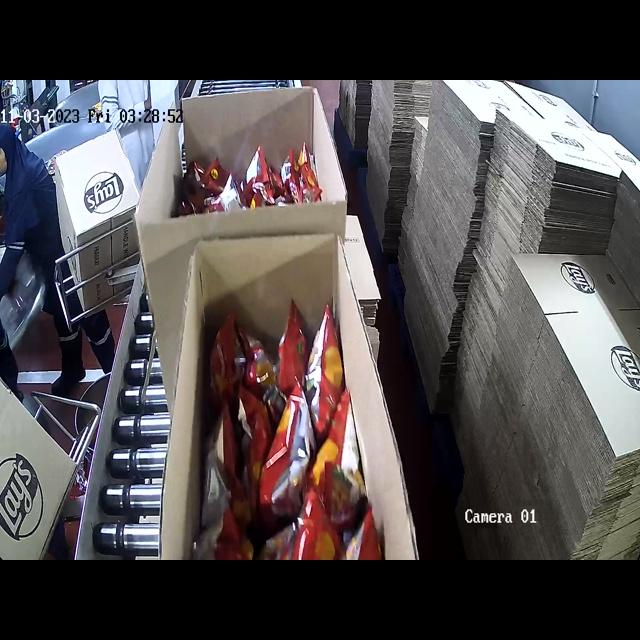masala: (197, 311, 378, 560), (182, 153, 324, 204)
